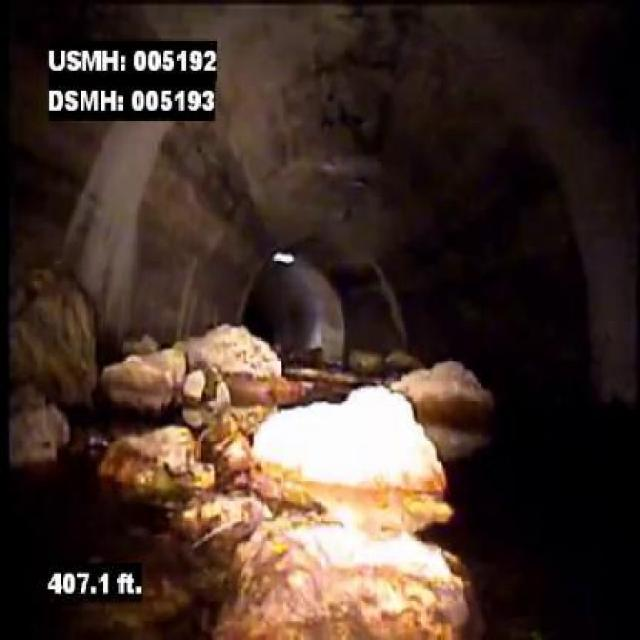Obstacle: (143, 320, 474, 635)
